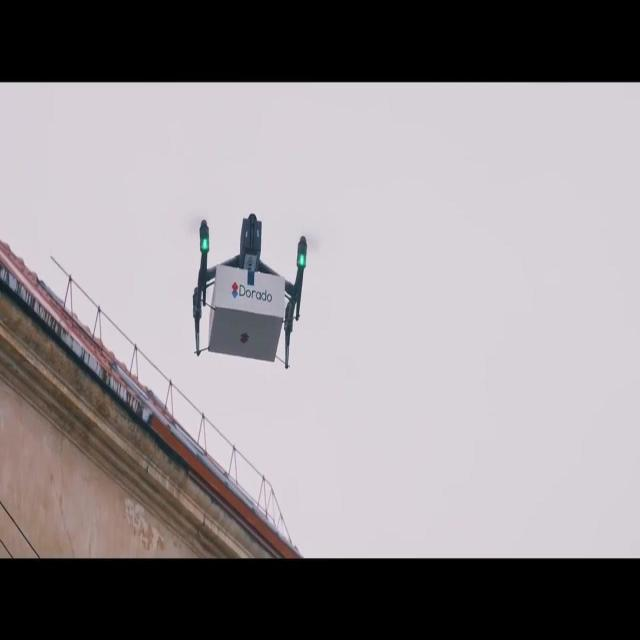UAV: (192, 212, 308, 370)
